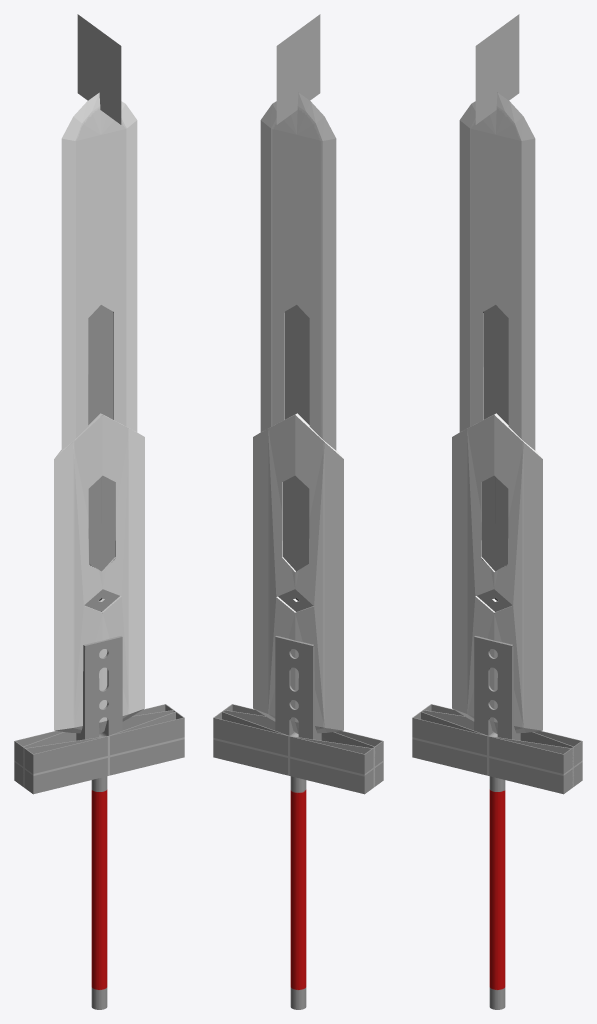
Rendered from firstsword.obj.
3 renders of one model, left to right at view 1: azimuth 30°, elevation 25°; view 2: azimuth 150°, elevation 25°; view 3: azimuth 330°, elevation 25°, orthographic.
Visible parts, largest first — view 1: edge01, edge02, boxO, grip_Cylinder, centerplate_center, Plane, boxC; view 2: edge01, edge02, boxO, grip_Cylinder, centerplate_center, Plane, boxC; view 3: edge02, edge01, boxO, grip_Cylinder, centerplate_center, Plane, boxC.
Boxes of the visible parts, left/top/right/bottom form: edge01: left=54, top=92, right=102, bottom=733; edge02: left=99, top=101, right=144, bottom=733; boxO: left=14, top=704, right=184, bottom=794; grip_Cylinder: left=91, top=776, right=107, bottom=1009; centerplate_center: left=76, top=312, right=122, bottom=740; Plane: left=77, top=14, right=121, bottom=124; boxC: left=23, top=710, right=175, bottom=783; edge01: left=295, top=92, right=343, bottom=733; edge02: left=253, top=101, right=298, bottom=733; boxO: left=213, top=704, right=383, bottom=794; grip_Cylinder: left=290, top=776, right=306, bottom=1009; centerplate_center: left=275, top=598, right=321, bottom=740; Plane: left=276, top=14, right=320, bottom=124; boxC: left=222, top=710, right=374, bottom=784; edge02: left=494, top=92, right=542, bottom=733; edge01: left=452, top=101, right=497, bottom=733; boxO: left=412, top=704, right=582, bottom=794; grip_Cylinder: left=489, top=776, right=505, bottom=1009; centerplate_center: left=474, top=312, right=520, bottom=740; Plane: left=475, top=14, right=519, bottom=124; boxC: left=421, top=710, right=574, bottom=787.
Bounding box in the file's own units: 4 × 24.65 × 2.
